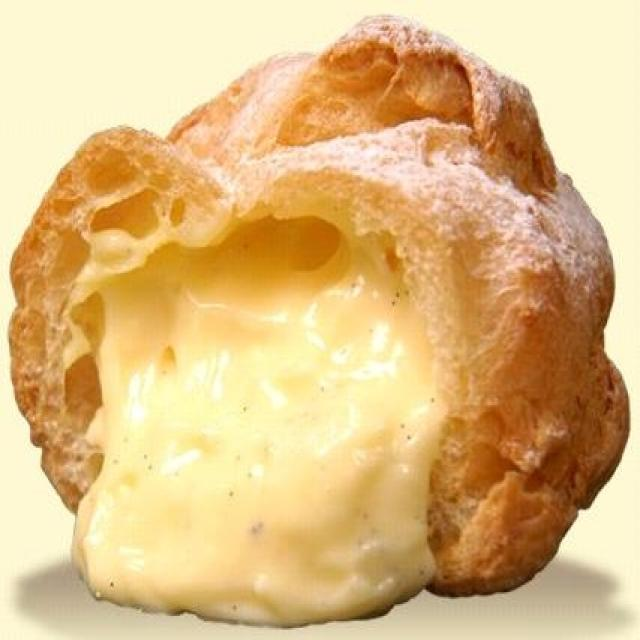炸货点心: (9, 17, 625, 623)
蛋糕甜品: (9, 17, 625, 623)
